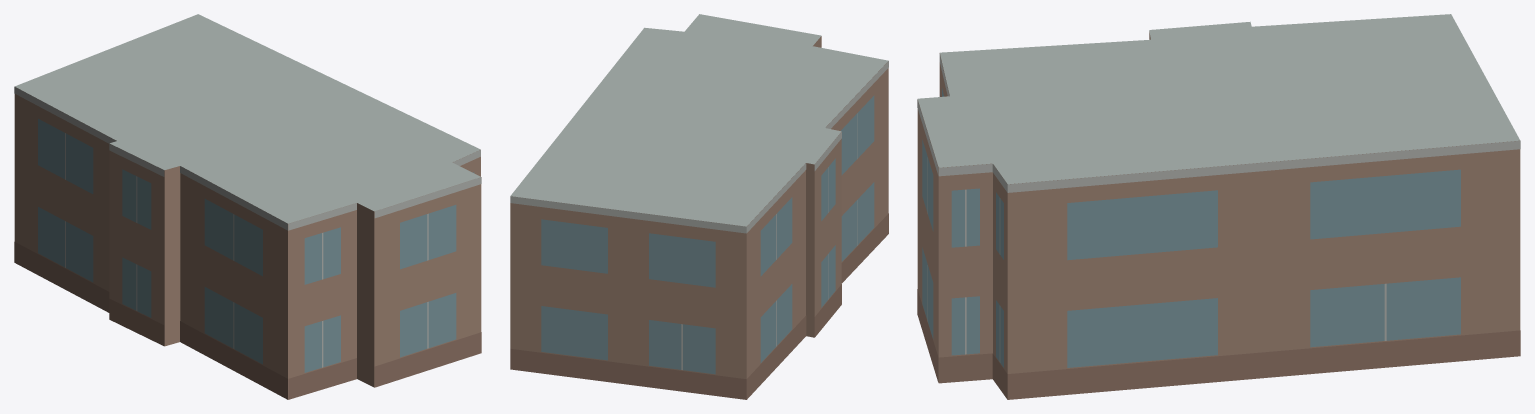
Rendered from survey-upis-32945333.glb.
3 renders of one model, left to right at view 1: azimuth 30°, elevation 25°; view 2: azimuth 150°, elevation 25°; view 3: azimuth 270°, elevation 25°, orthographic. The views are drawn at different scales.
Parts seen in each view (by area): view 1: survey-upis-32945333.tmp; view 2: survey-upis-32945333.tmp; view 3: survey-upis-32945333.tmp.
Part boxes in pixels (x1,y1,x2,y2): survey-upis-32945333.tmp: [14, 14, 481, 399]; survey-upis-32945333.tmp: [510, 14, 888, 399]; survey-upis-32945333.tmp: [917, 14, 1520, 399].
Size of the model in its own units: 10.35 by 6.1 by 15.48.
